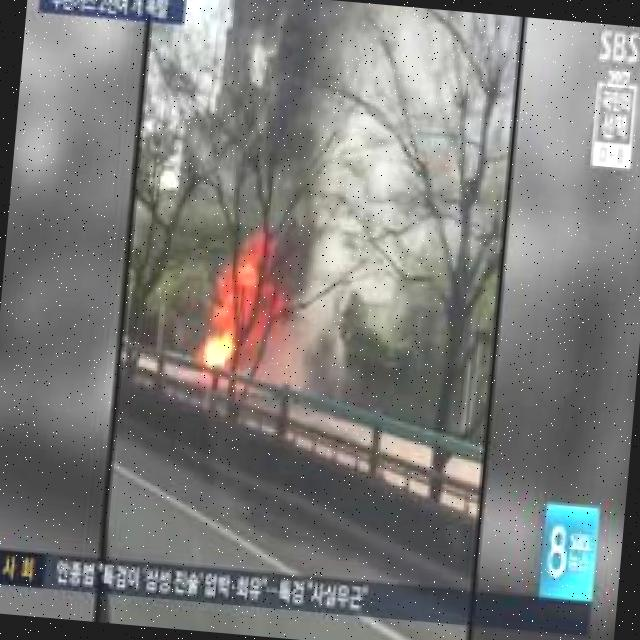fire: (198, 203, 318, 373)
